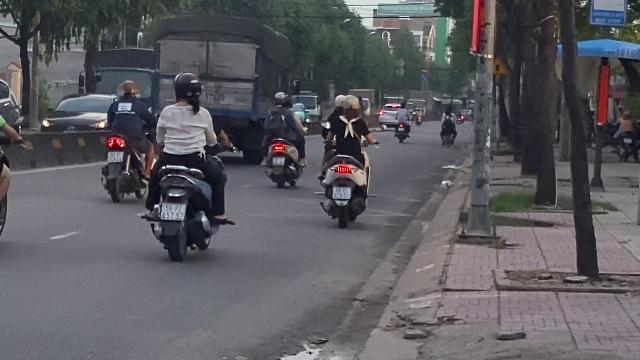helmet: (172, 72, 202, 104), (342, 94, 360, 118), (272, 92, 288, 106), (334, 94, 346, 110)
licenseplate: (161, 202, 185, 220), (332, 185, 350, 198), (107, 150, 123, 162)
motorcyclist: (140, 71, 234, 262), (316, 93, 372, 227), (98, 78, 152, 202)
nohelmet: (120, 80, 138, 96)
